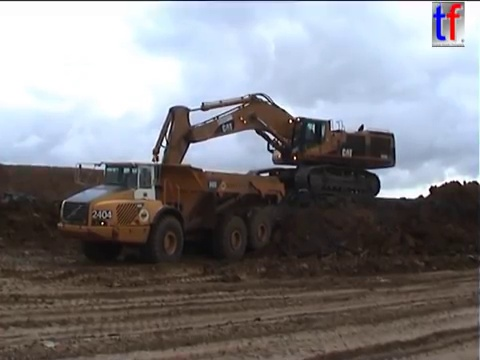excavator: (133, 90, 400, 219)
truck: (53, 152, 289, 266)
